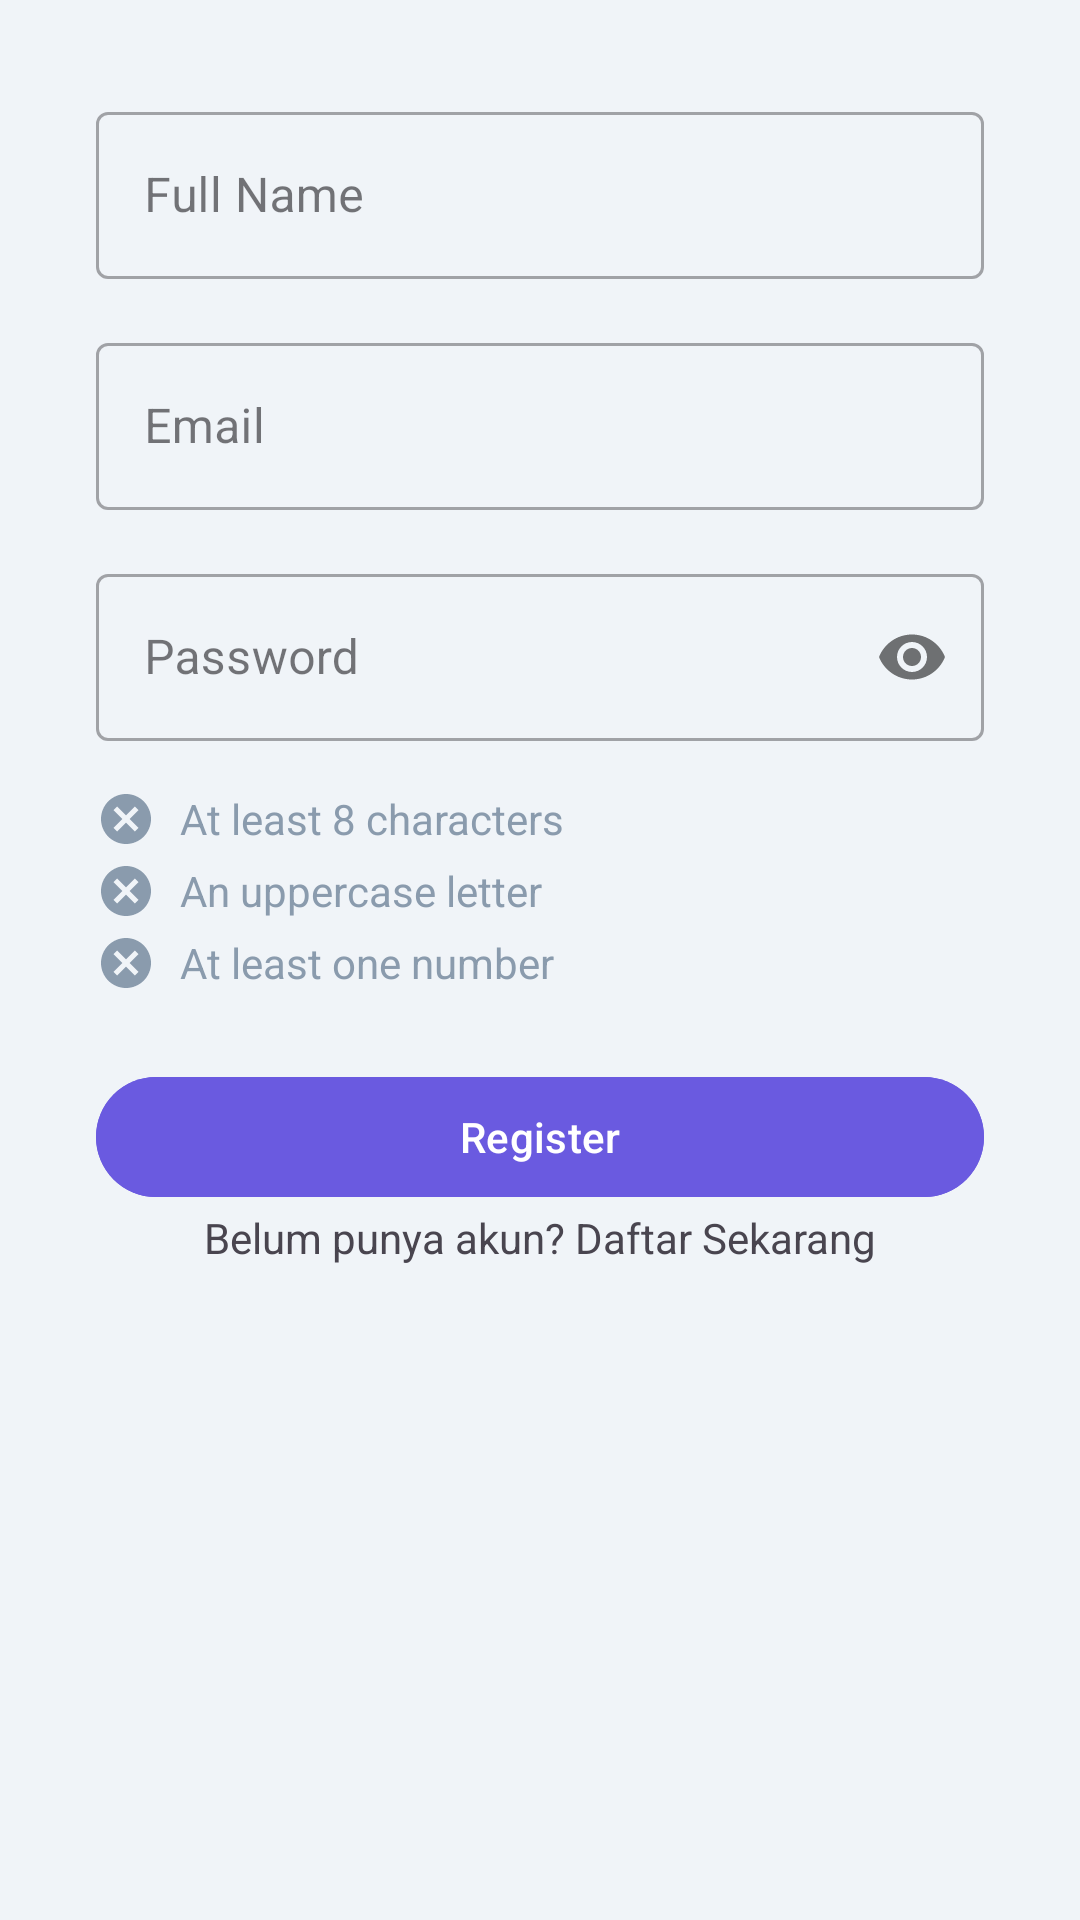

Icon click points for this 1080w x 1920h phone screenshot, format point (x, y):
cancel: point (126, 819), point (126, 891), point (126, 963)
